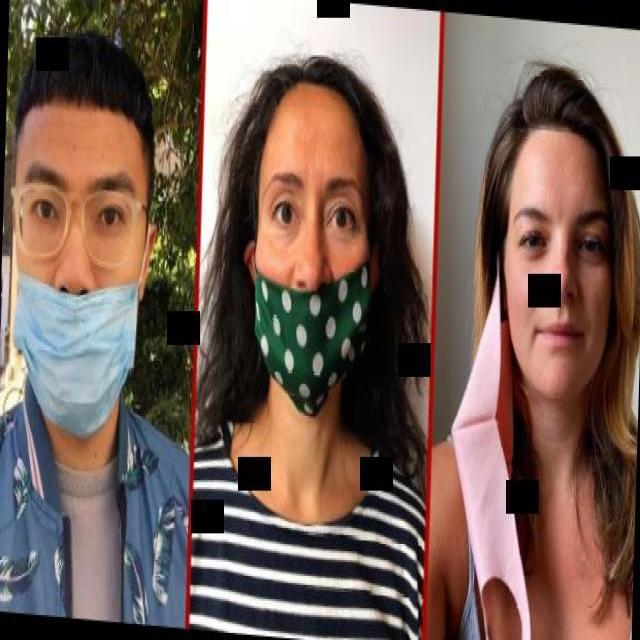hairnet: (12, 238, 142, 435), (250, 238, 373, 417)
